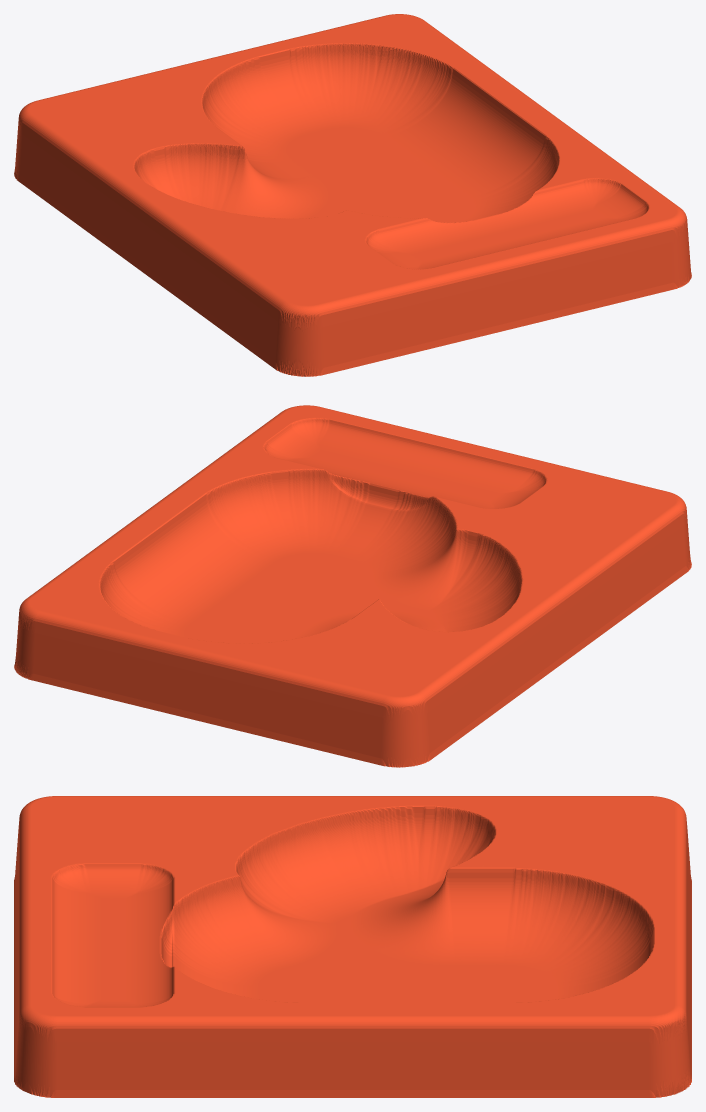
File: mold.glb
The picture shows the model from 3 angles, top to bottom: view 1: azimuth 30°, elevation 25°; view 2: azimuth 150°, elevation 25°; view 3: azimuth 270°, elevation 25°; orthographic projection. The views are drawn at different scales.
Visible parts, largest first — view 1: geometry_0; view 2: geometry_0; view 3: geometry_0.
Part boxes in pixels (x1=…): geometry_0: x1=14, y1=14, x2=691, y2=376; geometry_0: x1=14, y1=405, x2=691, y2=767; geometry_0: x1=14, y1=796, x2=691, y2=1097.
Bounding box in the file's own units: 0.1167 × 0.0175 × 0.1435.
